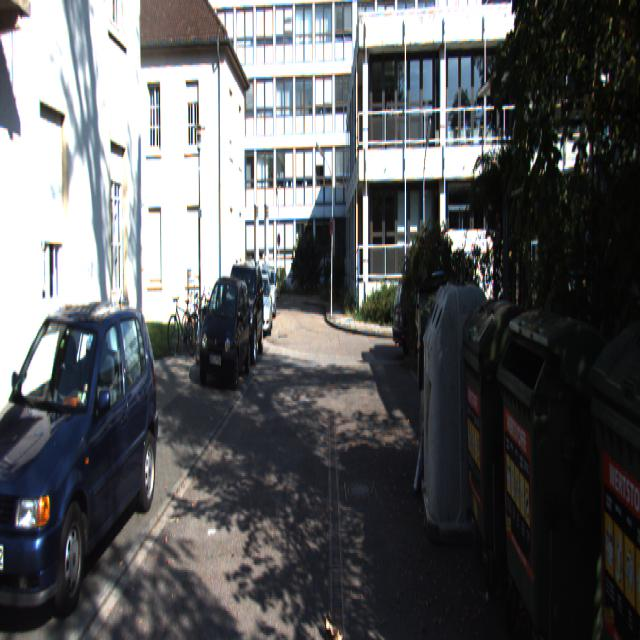Car: (0, 294, 161, 632), (197, 276, 252, 390), (391, 270, 464, 355), (222, 254, 266, 364), (249, 270, 274, 334)
